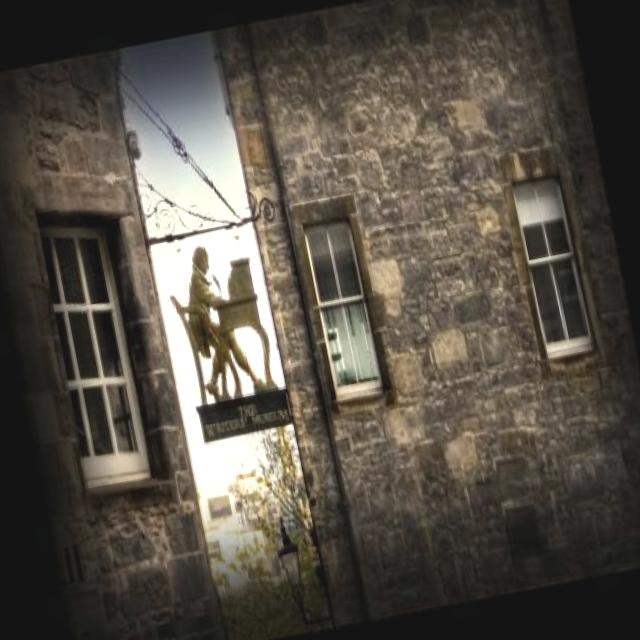Person: (178, 237, 274, 408)
